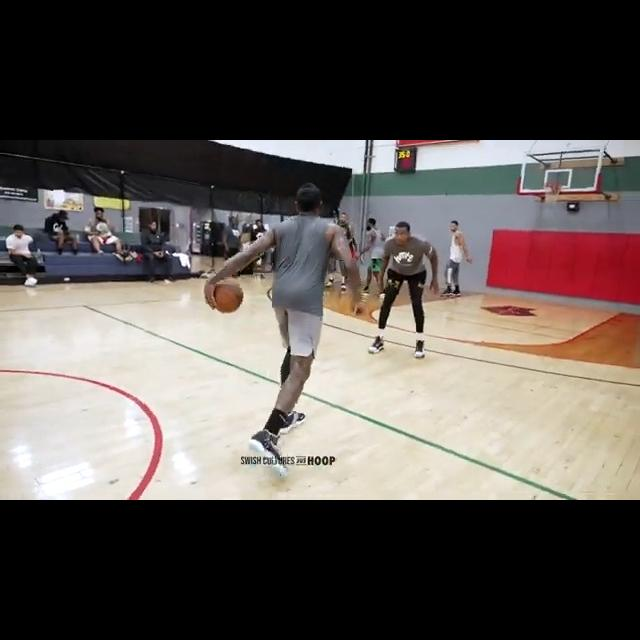basketball: (211, 277, 243, 314)
hoop: (545, 181, 566, 204)
person: (205, 181, 366, 479), (368, 221, 437, 359), (356, 216, 393, 298), (439, 216, 473, 298), (3, 225, 46, 287), (325, 210, 356, 292), (139, 219, 175, 285), (85, 205, 125, 259), (44, 207, 81, 257), (225, 213, 245, 278), (252, 217, 270, 279)
